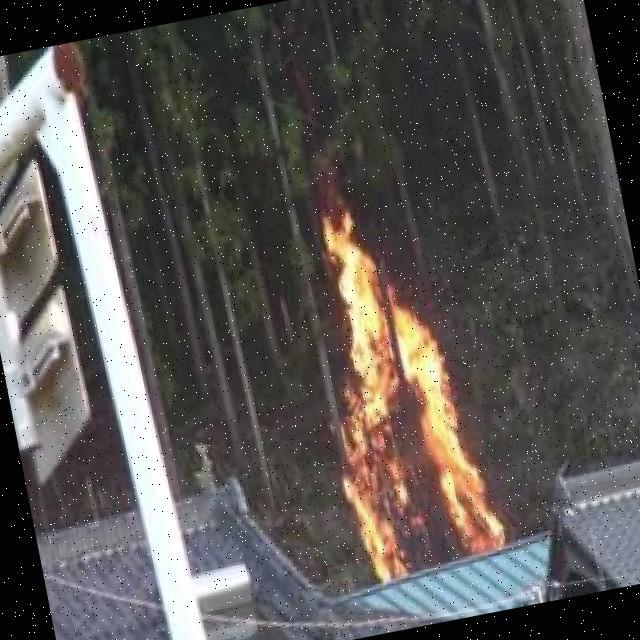Fire: (285, 193, 501, 586)
